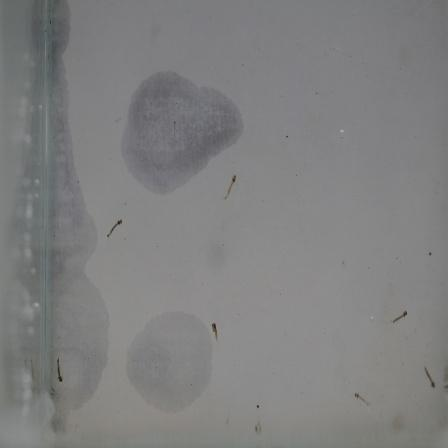Jentik-Nyamuk: (219, 172, 241, 201), (103, 214, 125, 243), (53, 352, 69, 387), (389, 306, 412, 330), (423, 365, 441, 393), (349, 389, 376, 407), (209, 319, 223, 348)
